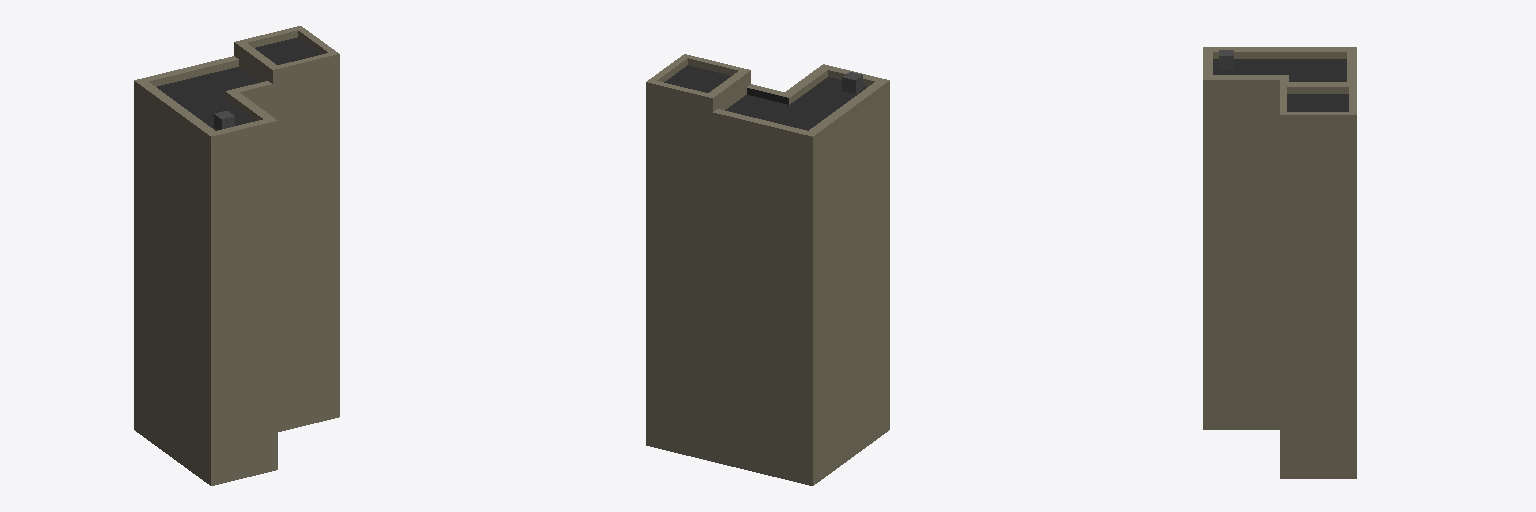
The model's file is highrise_10.obj.
The picture shows the model from 3 angles: view 1: azimuth 30°, elevation 25°; view 2: azimuth 150°, elevation 25°; view 3: azimuth 270°, elevation 25°; orthographic projection.
Visible parts, largest first — view 1: Mesh1 Model; view 2: Mesh1 Model; view 3: Mesh1 Model.
Part boxes in pixels (bbox=[...]): Mesh1 Model: bbox=[134, 26, 339, 485]; Mesh1 Model: bbox=[646, 54, 889, 485]; Mesh1 Model: bbox=[1203, 47, 1356, 478].
Bounding box in the file's own units: 25 × 52 × 20.